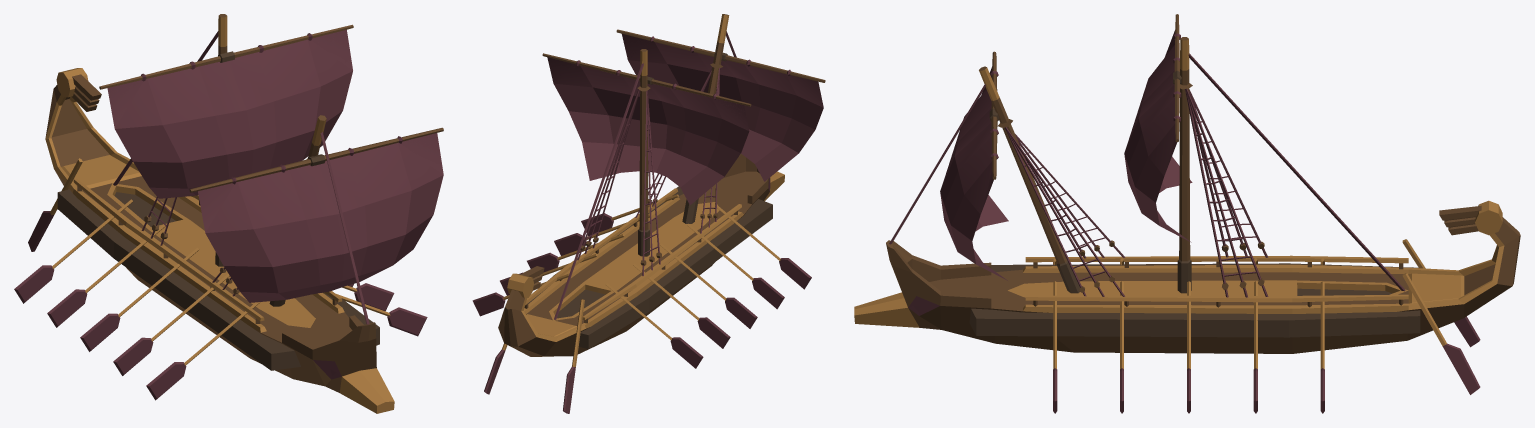
Rendered from SM_Ship_Trireme_Empire.fbx.
3 renders of one model, left to right at view 1: azimuth 30°, elevation 25°; view 2: azimuth 150°, elevation 25°; view 3: azimuth 270°, elevation 25°, orthographic. The views are drawn at different scales.
Parts seen in each view (by area): view 1: SM_Ship_Trireme_Empire; view 2: SM_Ship_Trireme_Empire; view 3: SM_Ship_Trireme_Empire.
Boxes of the visible parts, x1,y1,x2,y2 form: SM_Ship_Trireme_Empire: [14, 14, 443, 413]; SM_Ship_Trireme_Empire: [472, 14, 825, 413]; SM_Ship_Trireme_Empire: [854, 14, 1520, 413].
Size of the model in its own units: 8.62 by 9.6 by 17.45.
